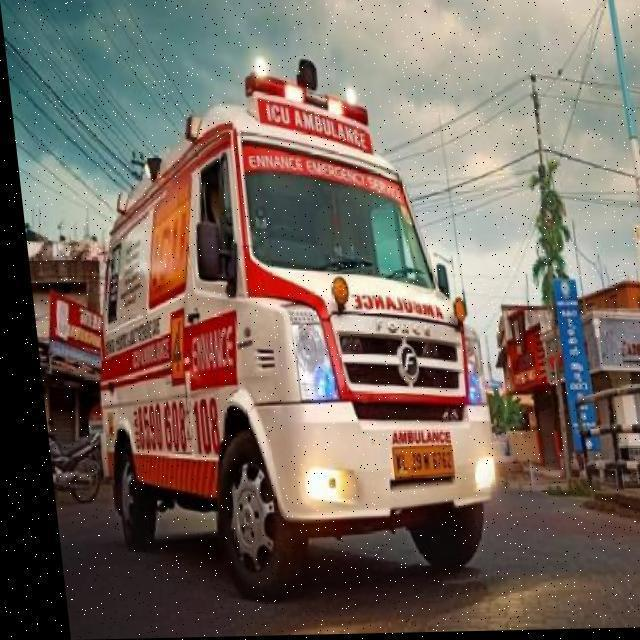Ambulance: (53, 54, 502, 606), (41, 461, 640, 638)
